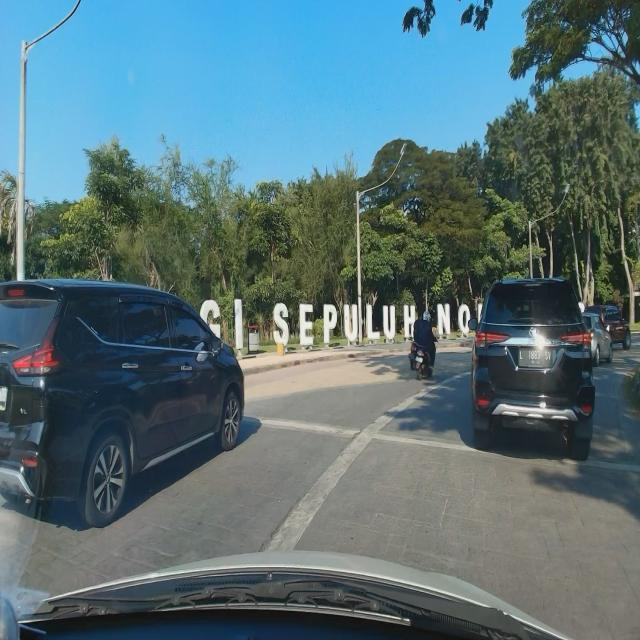car: (469, 268, 599, 464)
license-plate: (518, 348, 553, 368)
